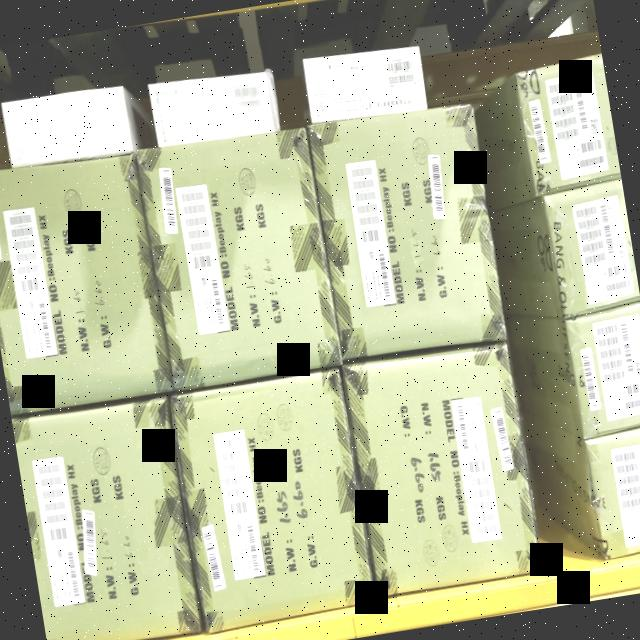box: (170, 370, 377, 626), (142, 127, 341, 382), (310, 103, 506, 358), (12, 396, 205, 640), (348, 348, 540, 592), (0, 153, 168, 410), (518, 59, 621, 189)
